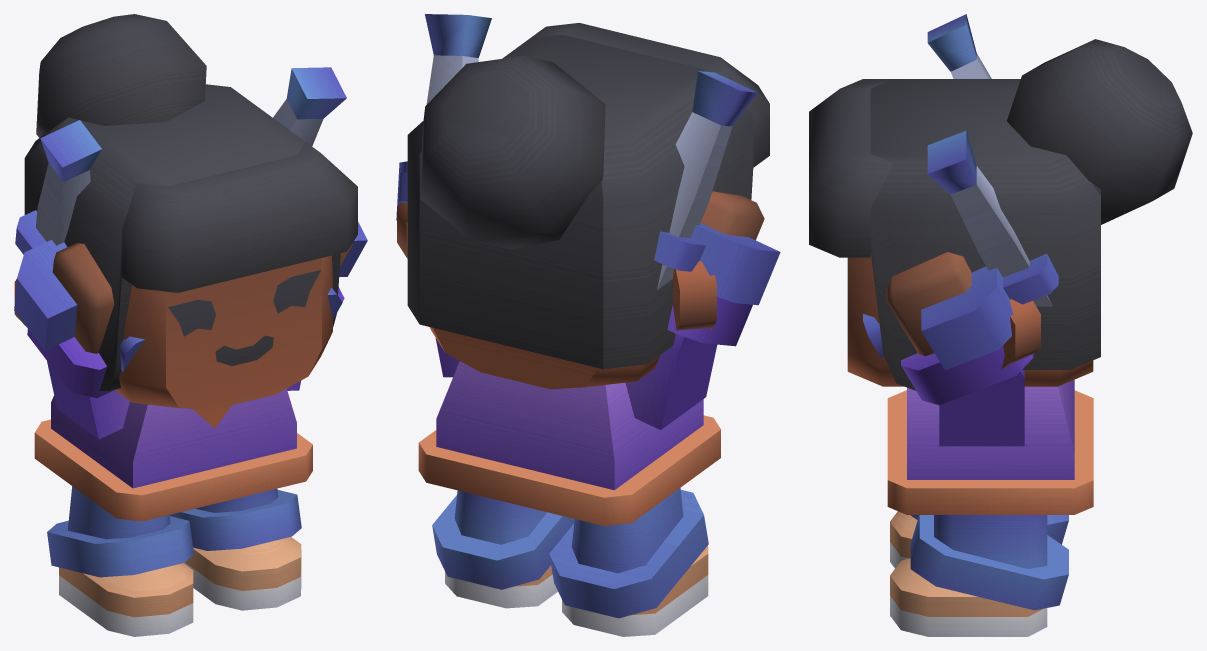
The model's file is character-female-a-idle.glb.
3 views of the same model, side by side, from view 1: azimuth 30°, elevation 25°; view 2: azimuth 150°, elevation 25°; view 3: azimuth 270°, elevation 25° (orthographic). The views are drawn at different scales.
Parts seen in each view (by area): view 1: character-female-a-idle; view 2: character-female-a-idle; view 3: character-female-a-idle.
Boxes of the visible parts, x1,y1,x2,y2 form: character-female-a-idle: (14,14,367,636); character-female-a-idle: (396,14,780,636); character-female-a-idle: (809,14,1192,636).
Bounding box in the file's own units: 0.5065 × 0.7755 × 0.4995.
1 material, 1 textured.
